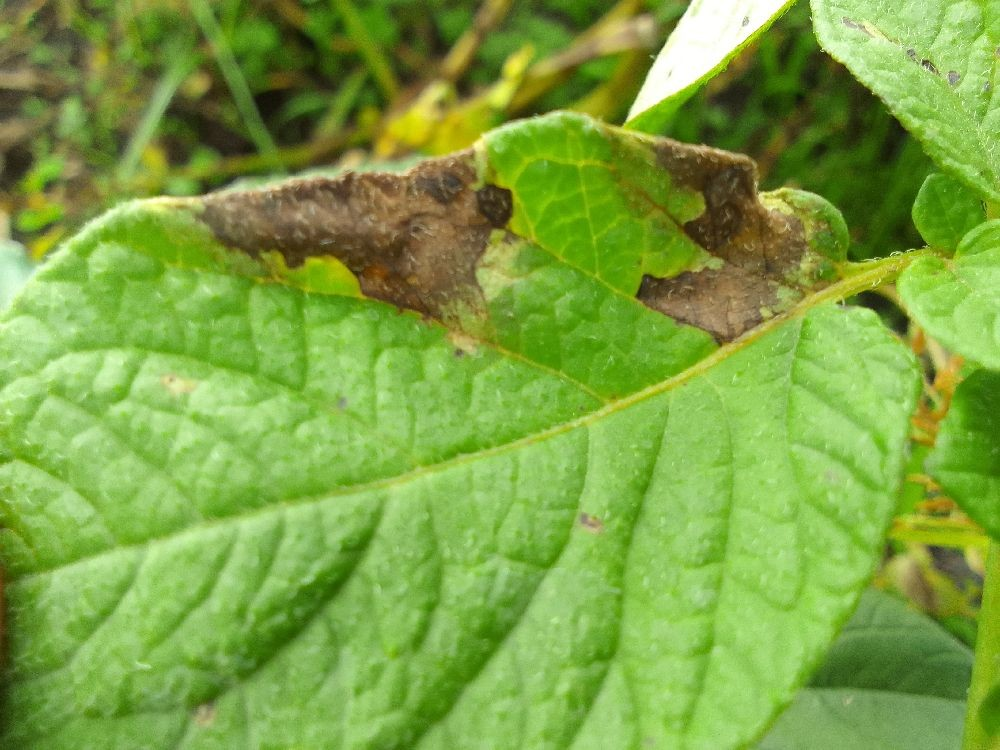late_blight: (132, 0, 676, 366), (0, 0, 170, 274), (691, 34, 768, 129), (919, 538, 991, 616)
